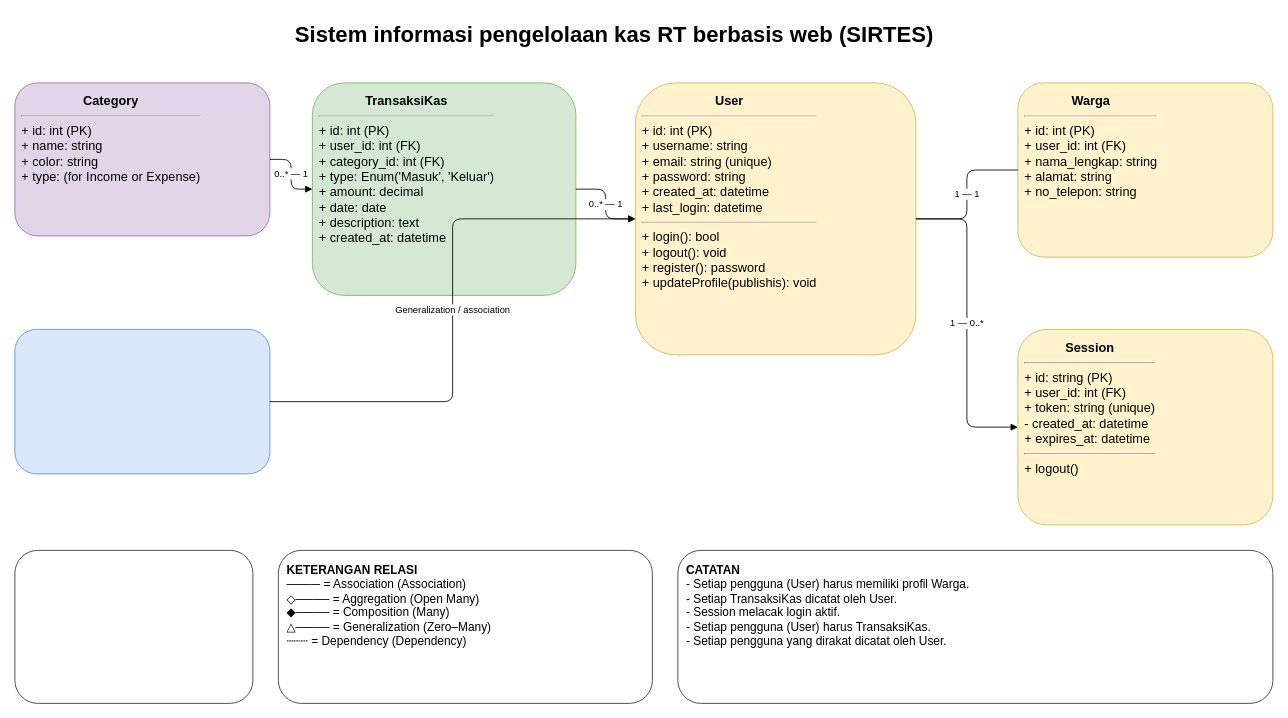
The diagram is 1288 pixels wide and 718 high, and some of its shapes have lost their labels. Here are the shapes that lost their labels. From the top down, the box of each, then its label:
(14, 329, 270, 474): Pengumuman - id - name + Group
(14, 550, 253, 703): KETERANGAN ■ Core Transaction ■ User & Profile ■ Contextual Data ■ (unused)
